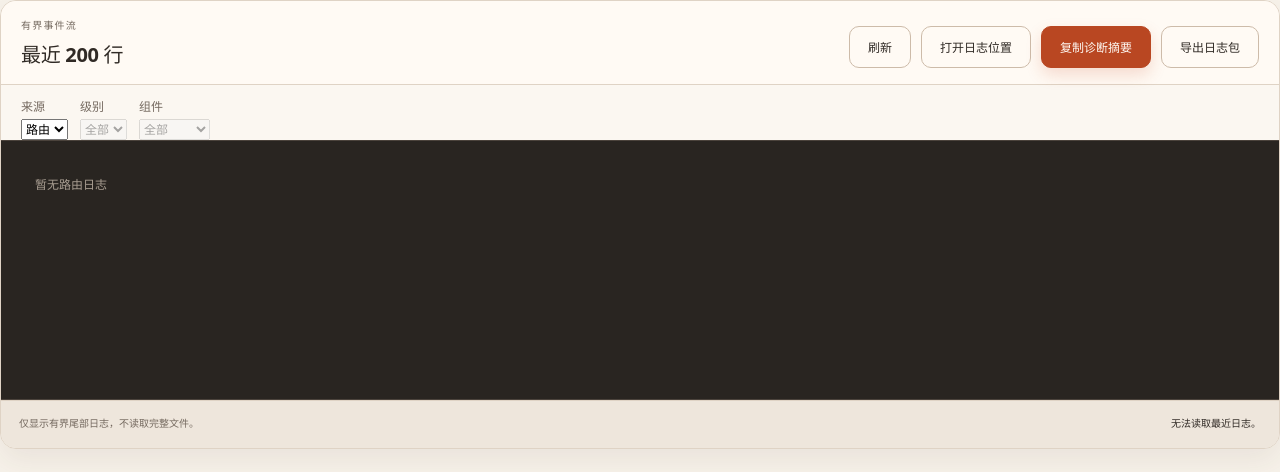
Test: LogsPage › does not render or copy a rejected secret canary
Expected: the text "无法读取最近日志。" is shown, [1171,415,1261,434]
Click the button "复制诊断摘要" at (1096, 47), box [1041,26,1151,68]
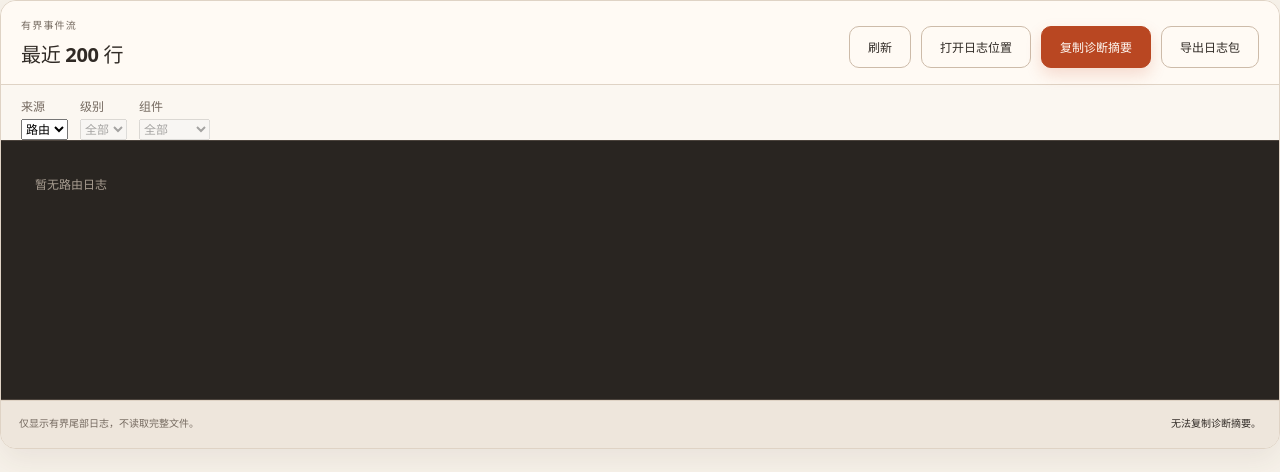
Expected: the text "无法复制诊断摘要。" is shown, [1171,415,1261,434]
